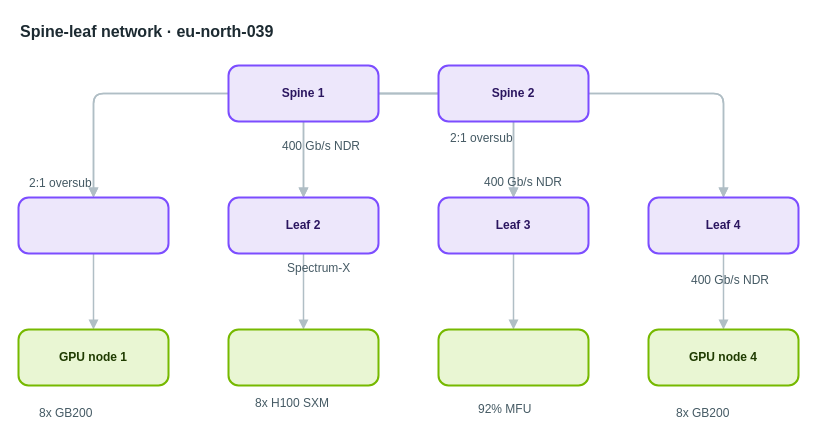
Image size: 816x438. Some labels were removed from this diagram. The shapes that lost their labels are listed below. From the top down, each one's centre as x and y in pixels, then its label:
[93,225]: Leaf 1
[303,357]: GPU node 2
[513,357]: GPU node 3
